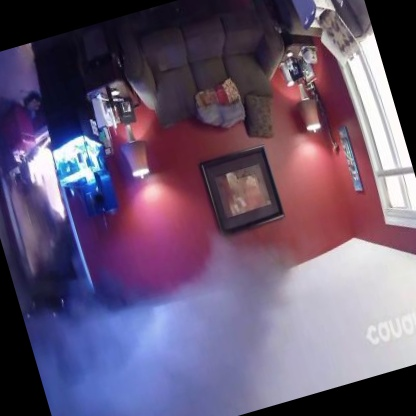smoke: (18, 236, 282, 416)
